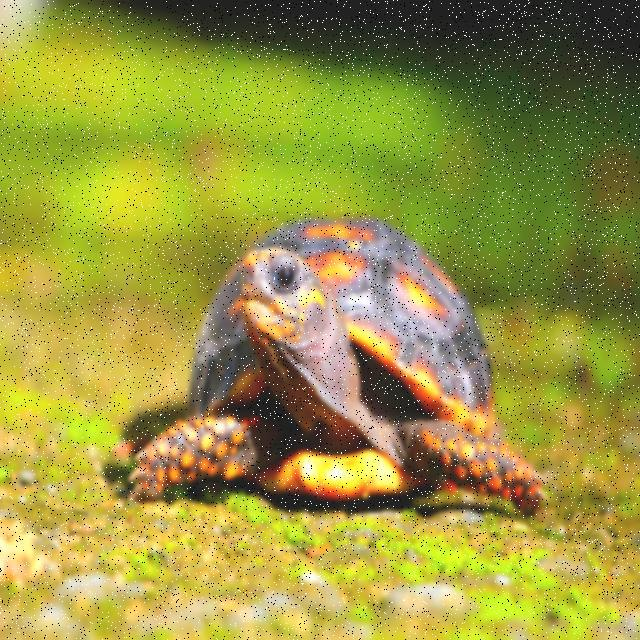tortoise: (124, 192, 552, 538)
